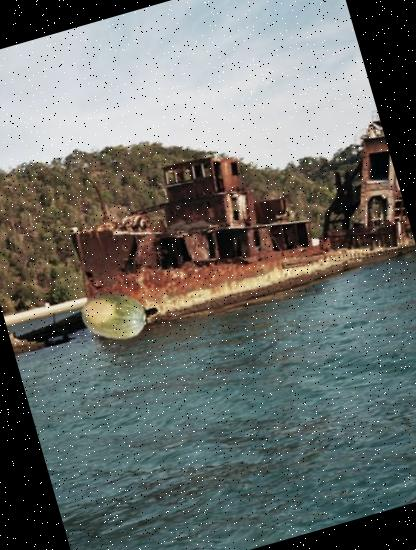Melon: (74, 271, 156, 353)
